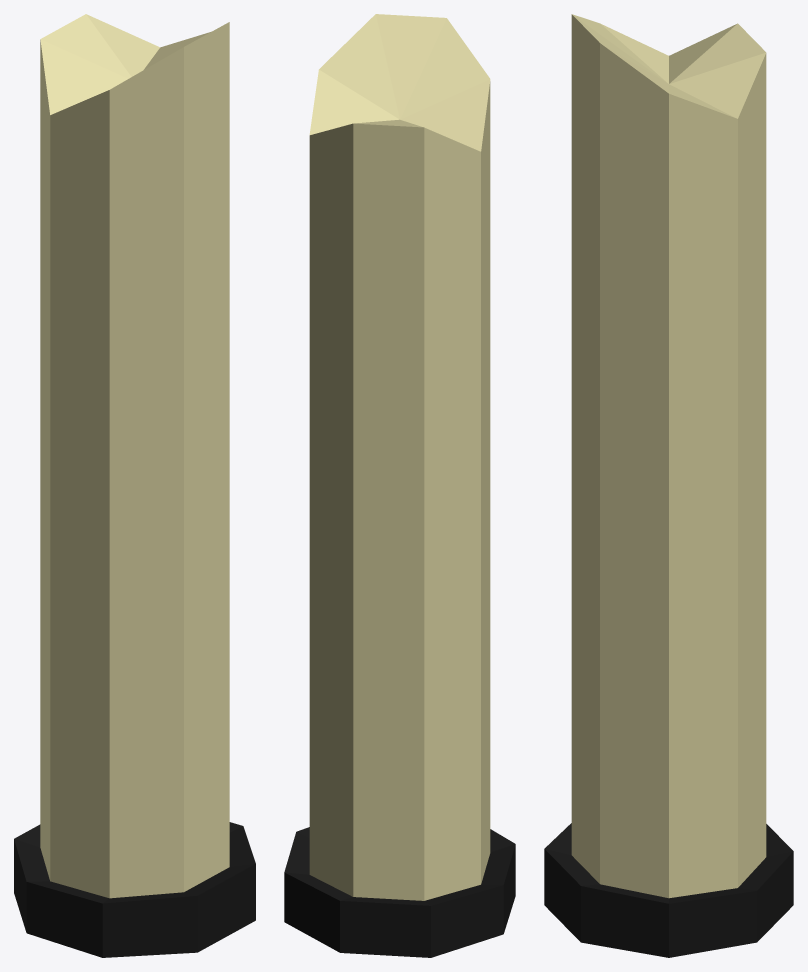
File: Candle.fbx
3 renders of one model, left to right at view 1: azimuth 30°, elevation 25°; view 2: azimuth 150°, elevation 25°; view 3: azimuth 270°, elevation 25°, orthographic. The views are drawn at different scales.
Visible parts, largest first — view 1: Cylinder; view 2: Cylinder; view 3: Cylinder.
Part boxes in pixels (x1,y1,x2,y2): Cylinder: (14,14,255,957); Cylinder: (284,14,515,957); Cylinder: (544,14,793,957).
Size of the model in its own units: 2.56 by 10.09 by 2.56.
